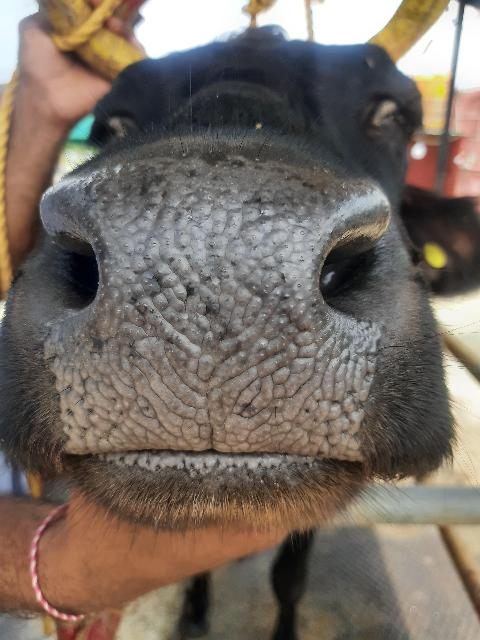Muzzle: (93, 184, 316, 456)
